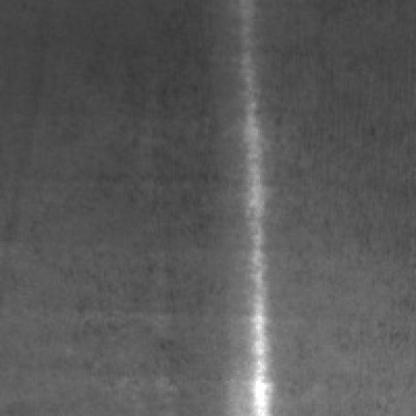scratches: (235, 2, 273, 410)
